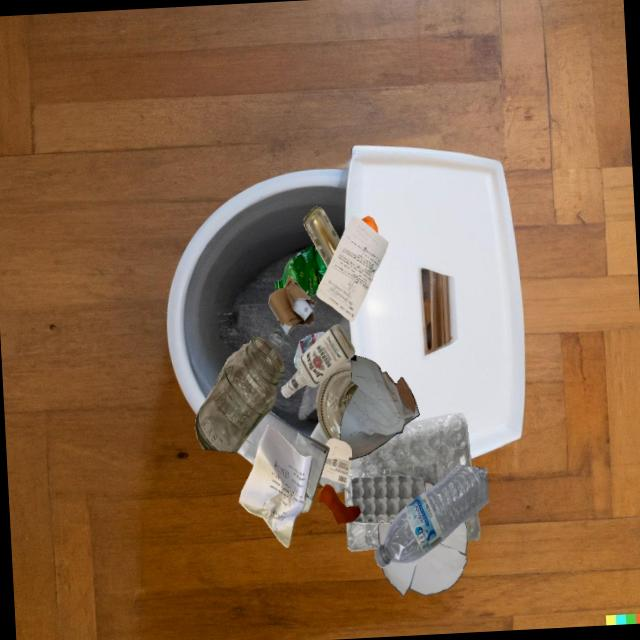biowaste: (317, 484, 361, 525), (361, 216, 378, 233)
cardboard: (350, 474, 426, 524), (268, 275, 316, 335)
glass: (195, 335, 285, 453), (281, 324, 355, 398), (316, 363, 358, 440), (303, 207, 340, 268)
paper: (237, 411, 330, 513), (239, 425, 313, 547), (340, 355, 420, 460), (316, 215, 389, 321), (400, 521, 467, 597), (384, 489, 427, 563), (321, 438, 352, 484), (310, 421, 329, 445), (319, 476, 345, 493)
plastic: (375, 464, 489, 568), (359, 474, 471, 544), (403, 413, 472, 480), (275, 245, 328, 297), (294, 332, 325, 369)
